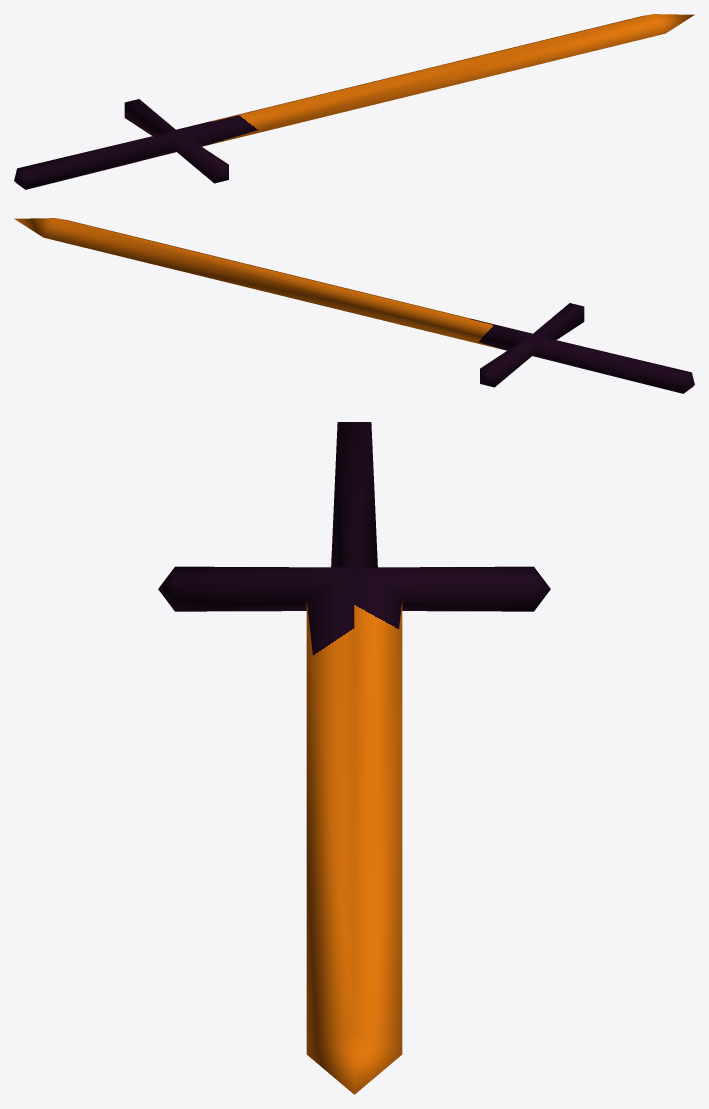
Rendered from Sword 3_rust.fbx.
3 views of the same model, one above another, from view 1: azimuth 30°, elevation 25°; view 2: azimuth 150°, elevation 25°; view 3: azimuth 270°, elevation 25° (orthographic). The views are drawn at different scales.
Visible parts, largest first — view 1: Sword; view 2: Sword; view 3: Sword.
Part boxes in pixels (bbox=[...]): Sword: bbox=[14, 14, 694, 189]; Sword: bbox=[14, 218, 694, 393]; Sword: bbox=[158, 422, 550, 1094].
Size of the model in its own units: 1.64 by 0.05 by 0.4104.
Materials: 3 (3 with a texture image).
